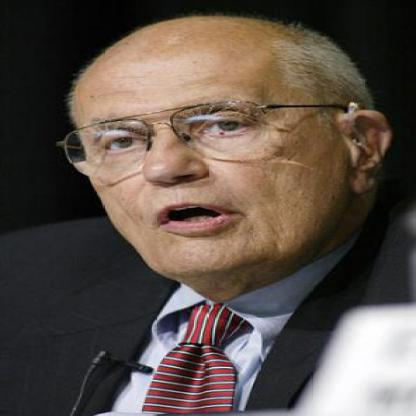face: (57, 23, 353, 290)
